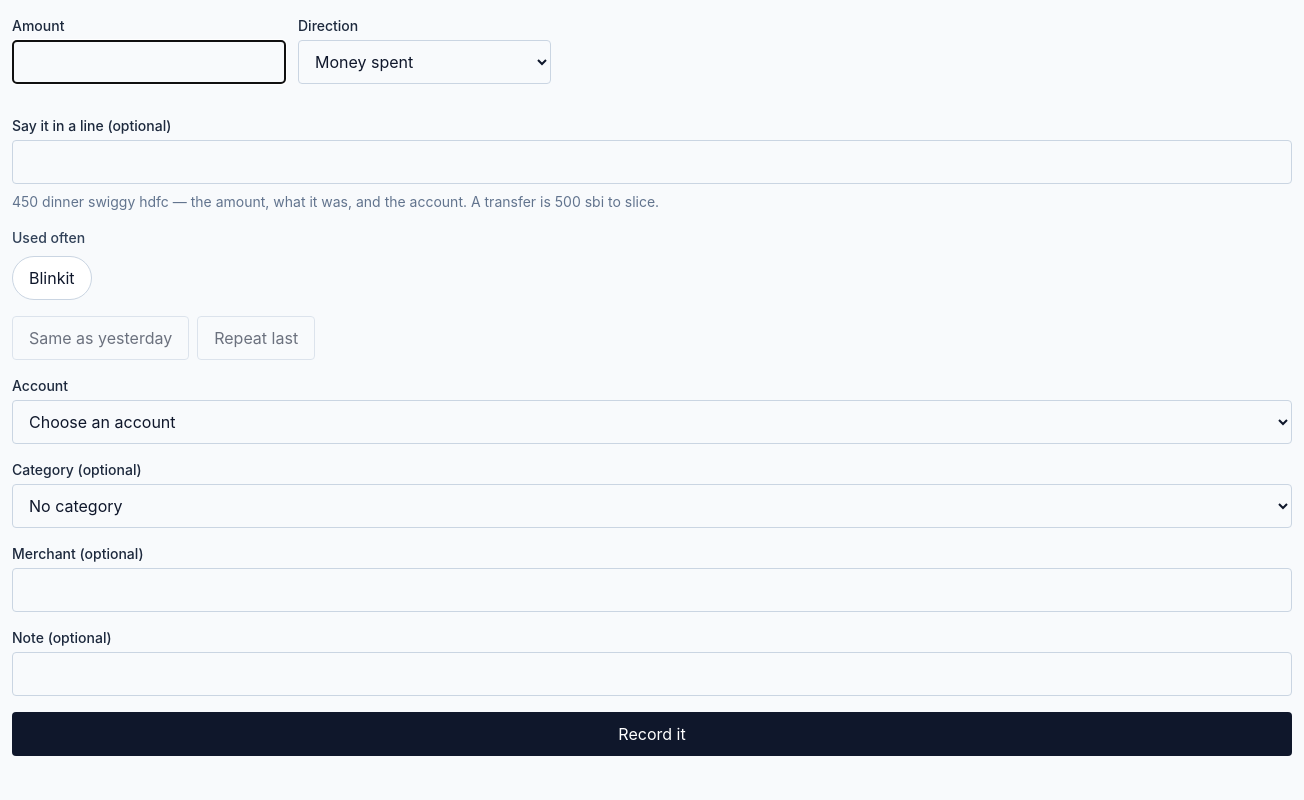
Test: FastEntry › asks for an account when none was chosen
Type "450" into the field labelled "Amount" at (149, 62), box [12, 40, 286, 84]
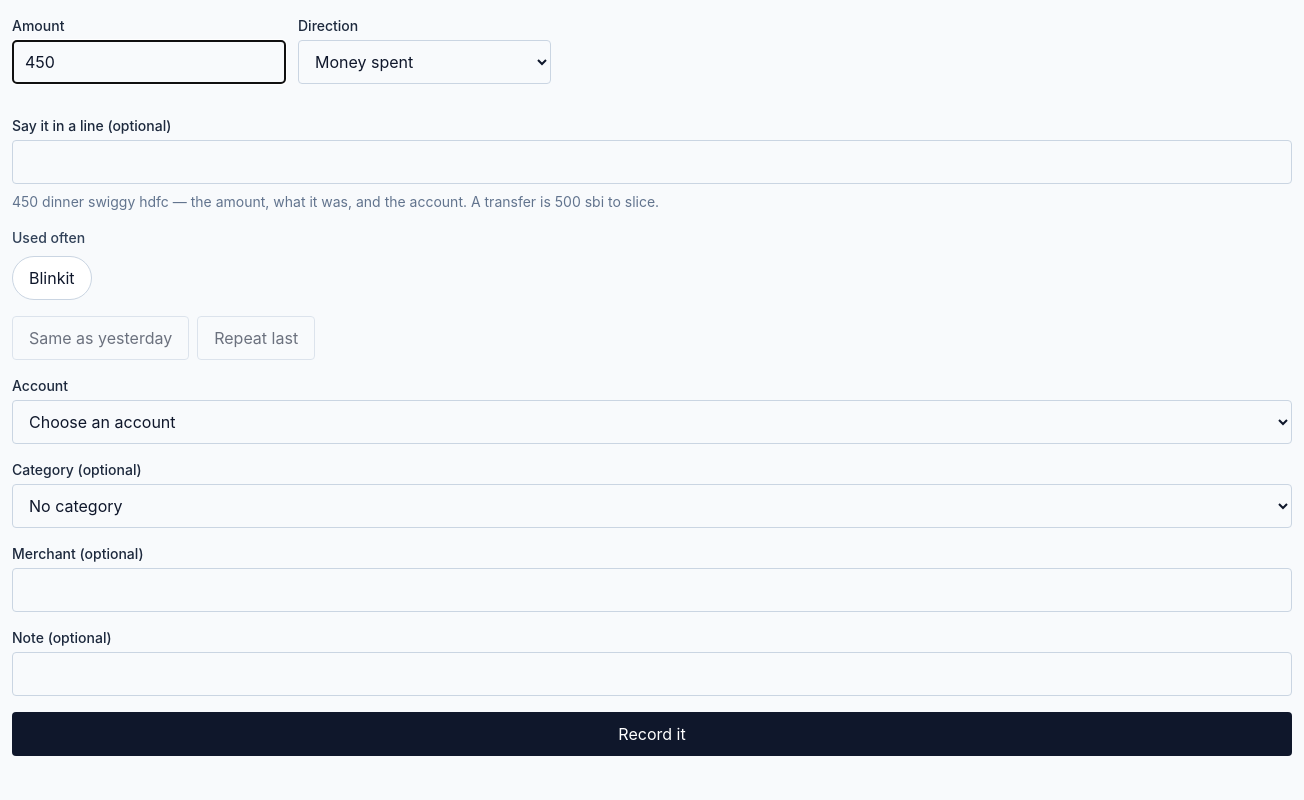
Click the button "Record it" at (652, 734), box [12, 712, 1292, 756]
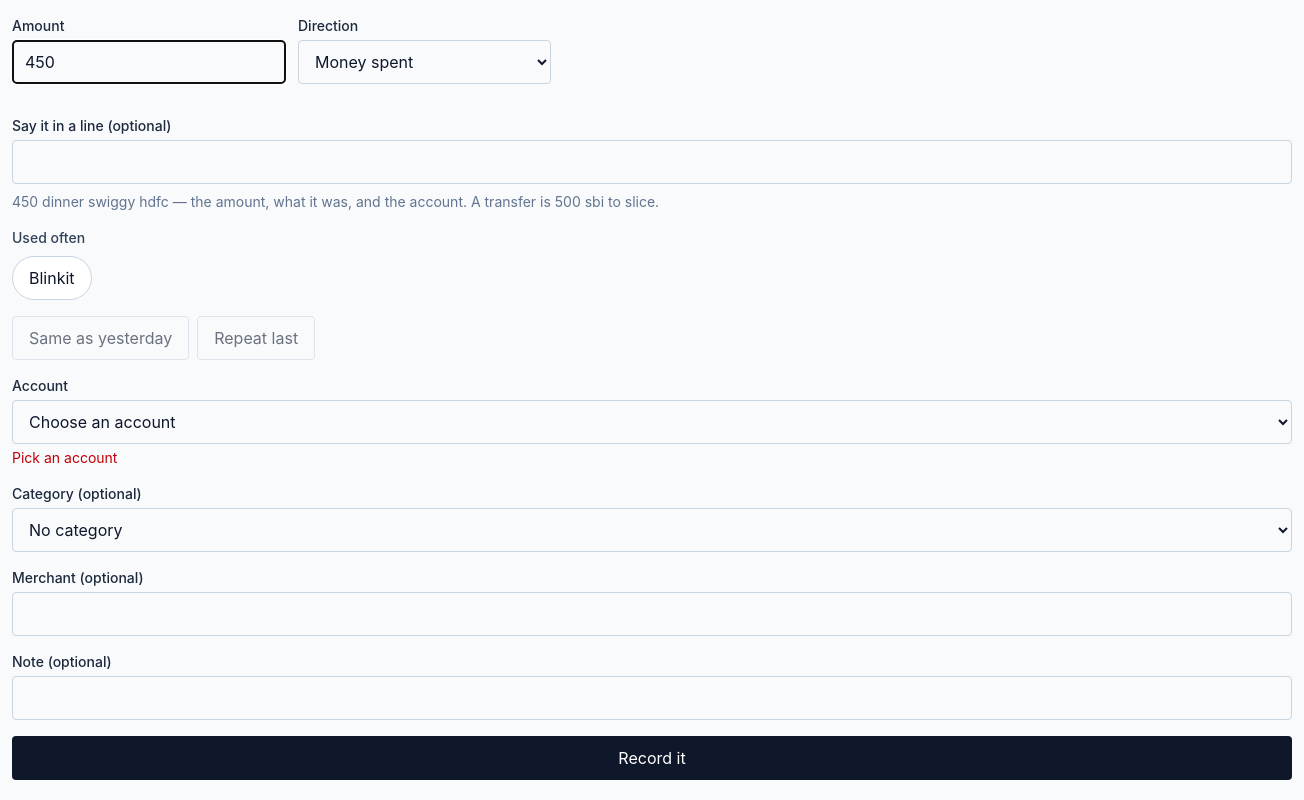
Check: the text "Pick an account" is shown, box [12, 449, 117, 466]
